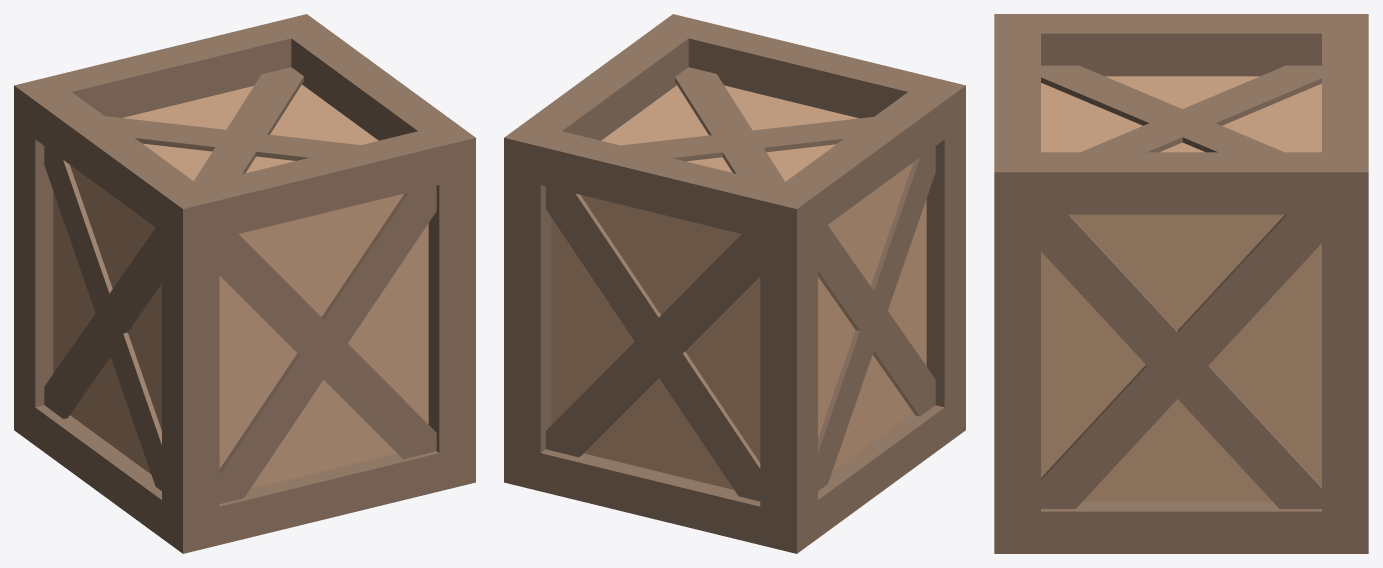
File: Crate2.fbx
3 views of the same model, side by side, from view 1: azimuth 30°, elevation 25°; view 2: azimuth 150°, elevation 25°; view 3: azimuth 270°, elevation 25° (orthographic). The views are drawn at different scales.
Visible parts, largest first — view 1: cube, cube_4, cube_5, cube_16, cube_7, cube_3, cube_15, cube_8, cube_6, cube_10, cube_1, cube_12 (+5 smaller); view 2: cube, cube_1, cube_5, cube_8, cube_13, cube_2, cube_7, cube_6, cube_14, cube_9, cube_4, cube_12 (+5 smaller); view 3: cube, cube_6, cube_5, cube_11, cube_23, cube_24, cube_2, cube_3, cube_17, cube_18, cube_7, cube_8.
Boxes of the visible parts, x1,y1,x2,y2 form: cube: [53, 84, 428, 488]; cube_4: [162, 232, 219, 515]; cube_5: [14, 76, 219, 247]; cube_16: [219, 185, 436, 503]; cube_7: [199, 131, 439, 238]; cube_3: [428, 176, 475, 452]; cube_15: [219, 234, 436, 458]; cube_8: [51, 23, 291, 117]; cube_6: [271, 14, 475, 184]; cube_10: [219, 451, 439, 544]; cube_1: [14, 124, 53, 407]; cube_12: [14, 392, 219, 553]; cube: [551, 85, 926, 489]; cube_1: [760, 232, 817, 515]; cube_5: [760, 76, 965, 247]; cube_8: [540, 131, 780, 238]; cube_13: [546, 186, 760, 501]; cube_2: [504, 176, 551, 452]; cube_7: [688, 23, 928, 118]; cube_6: [504, 14, 708, 184]; cube_14: [546, 234, 760, 457]; cube_9: [540, 449, 760, 544]; cube_4: [926, 124, 965, 407]; cube_12: [760, 392, 965, 553]; cube: [1041, 76, 1321, 501]; cube_6: [994, 152, 1368, 214]; cube_5: [994, 14, 1368, 76]; cube_11: [994, 501, 1368, 553]; cube_23: [1041, 214, 1321, 508]; cube_24: [1041, 214, 1321, 508]; cube_2: [1322, 214, 1368, 511]; cube_3: [994, 214, 1040, 511]; cube_17: [1081, 65, 1321, 152]; cube_18: [1041, 65, 1283, 152]; cube_7: [994, 33, 1040, 152]; cube_8: [1322, 33, 1368, 152].
Size of the model in its own units: 100 by 112 by 100.
Materials: 1 (1 with a texture image).
